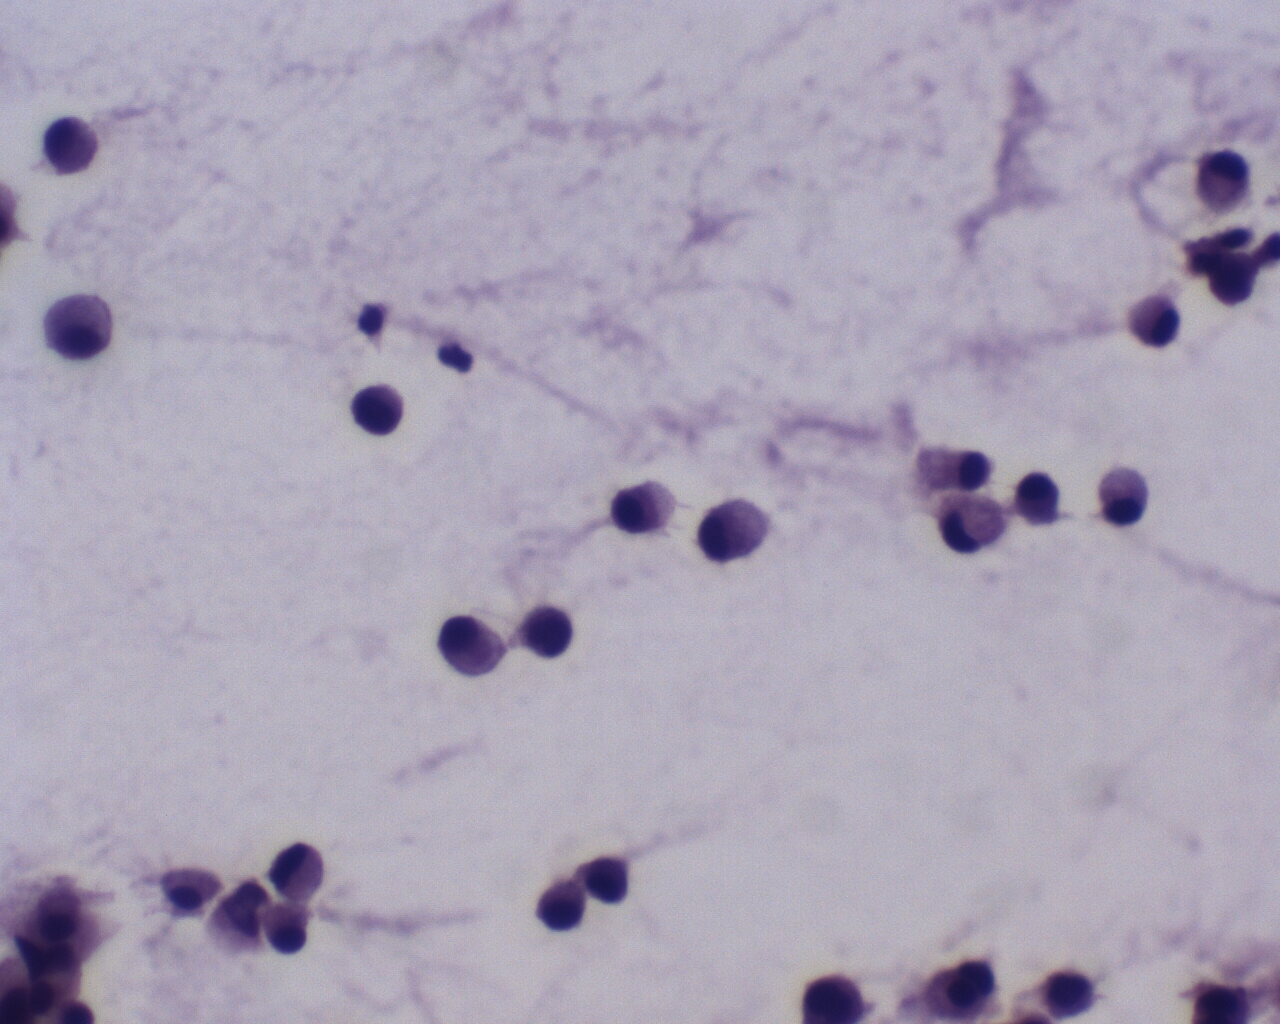ab: (345, 381, 411, 445), (517, 605, 576, 661)
meso: (40, 290, 119, 362), (437, 610, 513, 678), (1196, 144, 1254, 220), (1127, 287, 1184, 354), (1095, 467, 1156, 525)
